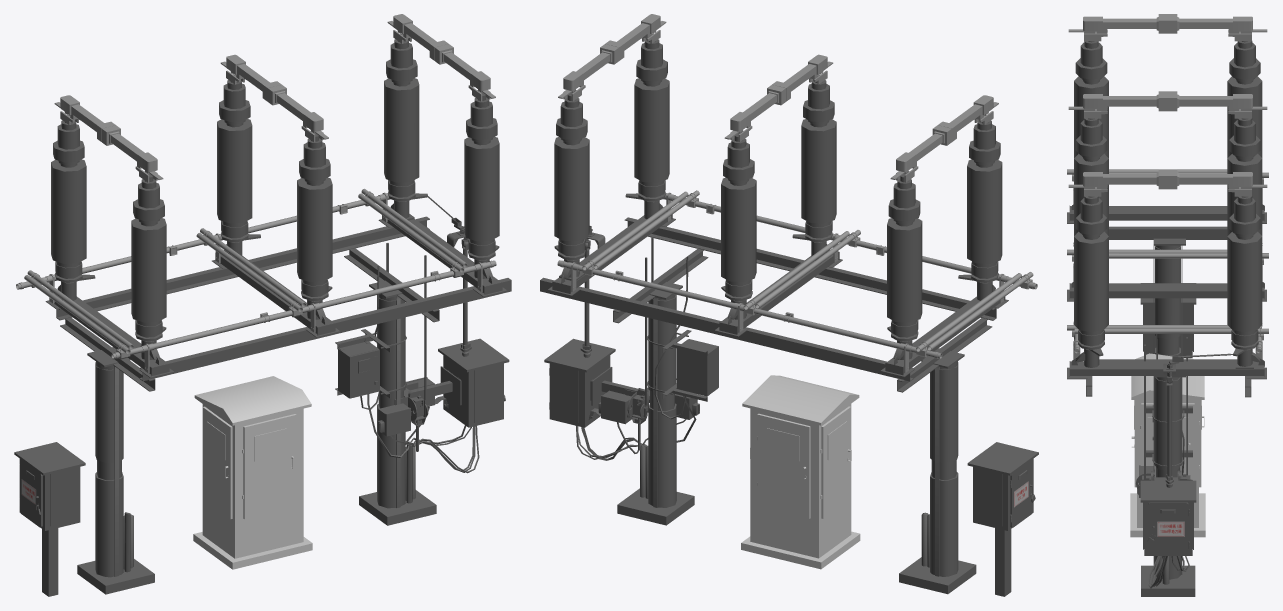
3 renders of one model, left to right at view 1: azimuth 30°, elevation 25°; view 2: azimuth 150°, elevation 25°; view 3: azimuth 270°, elevation 25°, orthographic. The views are drawn at different scales.
Parts seen in each view (by area): view 1: xd-105xl-1051dz, xd-105xl-105kg-dddz, xd-105xl-1051dz_chuandongbufen, xd-105xl-1051dz_jigouxiang_01, xd-105xl-1051dz-daozha_03, xd-105xl-1051dz_jigouxiang_02, xd-105xl-1051dz-daozha_02, xd-105xl-1051dz-daozha_01, xd-105xl-1051dz-daodianbi_03, xd-105xl-1051dz-daodianbi_05, xd-105xl-1051dz-daodianbi_01, xd-105xl-1051dz-daodianbi_02 (+2 smaller); view 2: xd-105xl-1051dz, xd-105xl-105kg-dddz, xd-105xl-1051dz_chuandongbufen, xd-105xl-1051dz_jigouxiang_01, xd-105xl-1051dz-daozha_03, xd-105xl-1051dz_jigouxiang_02, xd-105xl-1051dz-daozha_02, xd-105xl-1051dz-daozha_01, xd-105xl-1051dz-daodianbi_02, xd-105xl-1051dz-daodianbi_06, xd-105xl-1051dz-daodianbi_04, xd-105xl-1051dz-daodianbi_01 (+2 smaller); view 3: xd-105xl-1051dz, xd-105xl-1051dz_chuandongbufen, xd-105xl-105kg-dddz, xd-105xl-1051dz_jigouxiang_02, xd-105xl-1051dz-daozha_01, xd-105xl-1051dz-daozha_02, xd-105xl-1051dz-daodianbi_05, xd-105xl-1051dz-daodianbi_06, xd-105xl-1051dz-daodianbi_04, xd-105xl-1051dz-daodianbi_03, xd-105xl-1051dz-daodianbi_02, xd-105xl-1051dz-daodianbi_01 (+4 smaller).
Boxes of the visible parts, x1,y1,x2,y2 form: xd-105xl-1051dz: (51, 34, 499, 594); xd-105xl-105kg-dddz: (193, 376, 312, 569); xd-105xl-1051dz_chuandongbufen: (45, 212, 511, 391); xd-105xl-1051dz_jigouxiang_01: (14, 442, 85, 596); xd-105xl-1051dz-daozha_03: (16, 192, 496, 373); xd-105xl-1051dz_jigouxiang_02: (438, 338, 509, 427); xd-105xl-1051dz-daozha_02: (24, 193, 464, 359); xd-105xl-1051dz-daozha_01: (27, 188, 467, 349); xd-105xl-1051dz-daodianbi_03: (267, 85, 328, 142); xd-105xl-1051dz-daodianbi_05: (102, 125, 163, 182); xd-105xl-1051dz-daodianbi_01: (435, 44, 495, 101); xd-105xl-1051dz-daodianbi_02: (387, 14, 448, 60); xd-105xl-1051dz: (554, 34, 1002, 594); xd-105xl-105kg-dddz: (741, 375, 860, 569); xd-105xl-1051dz_chuandongbufen: (540, 212, 1008, 392); xd-105xl-1051dz_jigouxiang_01: (967, 442, 1038, 596); xd-105xl-1051dz-daozha_03: (557, 192, 1037, 372); xd-105xl-1051dz_jigouxiang_02: (544, 338, 615, 427); xd-105xl-1051dz-daozha_02: (593, 190, 1033, 351); xd-105xl-1051dz-daozha_01: (582, 191, 1021, 357); xd-105xl-1051dz-daodianbi_02: (558, 44, 619, 101); xd-105xl-1051dz-daodianbi_06: (890, 125, 951, 182); xd-105xl-1051dz-daodianbi_04: (724, 85, 785, 141); xd-105xl-1051dz-daodianbi_01: (605, 14, 666, 60); xd-105xl-1051dz: (1071, 41, 1264, 596); xd-105xl-1051dz_chuandongbufen: (1067, 205, 1266, 397); xd-105xl-105kg-dddz: (1130, 353, 1205, 537); xd-105xl-1051dz_jigouxiang_02: (1140, 480, 1196, 555); xd-105xl-1051dz-daozha_01: (1074, 172, 1268, 340); xd-105xl-1051dz-daozha_02: (1067, 169, 1261, 337); xd-105xl-1051dz-daodianbi_05: (1068, 14, 1167, 41); xd-105xl-1051dz-daodianbi_06: (1168, 14, 1267, 41); xd-105xl-1051dz-daodianbi_04: (1168, 91, 1267, 118); xd-105xl-1051dz-daodianbi_03: (1068, 91, 1167, 118); xd-105xl-1051dz-daodianbi_02: (1168, 169, 1267, 196); xd-105xl-1051dz-daodianbi_01: (1068, 169, 1167, 196).
Bounding box in the file's own units: 467 × 433 × 183.
